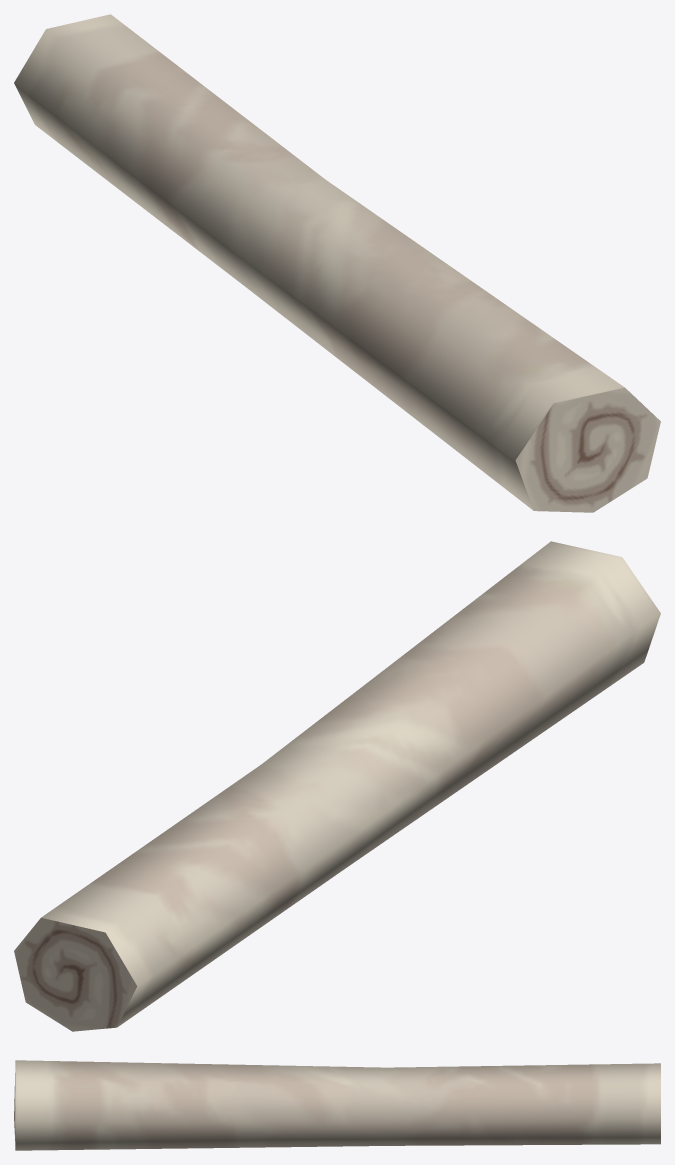
Rendered from SM_PROP_cloth_city_02.fbx.
3 views of the same model, one above another, from view 1: azimuth 30°, elevation 25°; view 2: azimuth 150°, elevation 25°; view 3: azimuth 270°, elevation 25° (orthographic). The views are drawn at different scales.
Visible parts, largest first — view 1: SM_PROP_cloth_city_02; view 2: SM_PROP_cloth_city_02; view 3: SM_PROP_cloth_city_02.
Boxes of the visible parts, box(x1,y1,x2,y2) form: SM_PROP_cloth_city_02: box(14, 14, 660, 512); SM_PROP_cloth_city_02: box(14, 541, 660, 1031); SM_PROP_cloth_city_02: box(14, 1060, 660, 1150).
Size of the model in its own units: 17.07 by 13.31 by 104.
